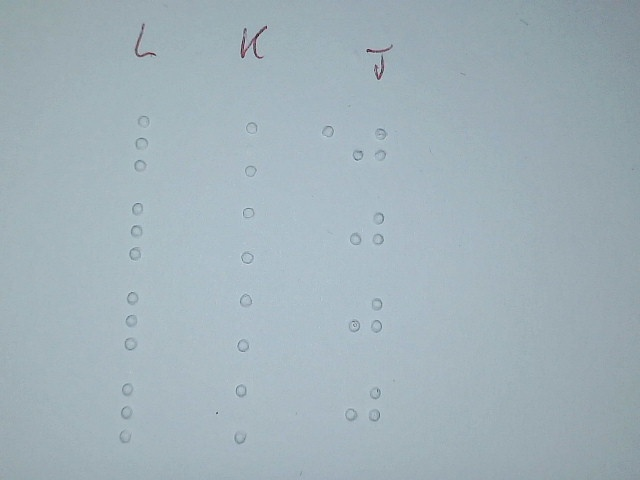J: (350, 119, 390, 184), (347, 202, 387, 267), (345, 290, 385, 355), (343, 377, 383, 442)
K: (236, 117, 282, 182), (233, 202, 279, 267), (229, 288, 275, 353), (226, 382, 272, 447)
L: (125, 112, 171, 177), (120, 199, 166, 264), (117, 288, 163, 353), (111, 381, 157, 446)
